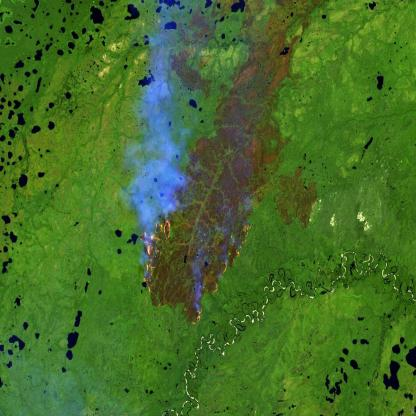fire: (134, 180, 255, 338)
